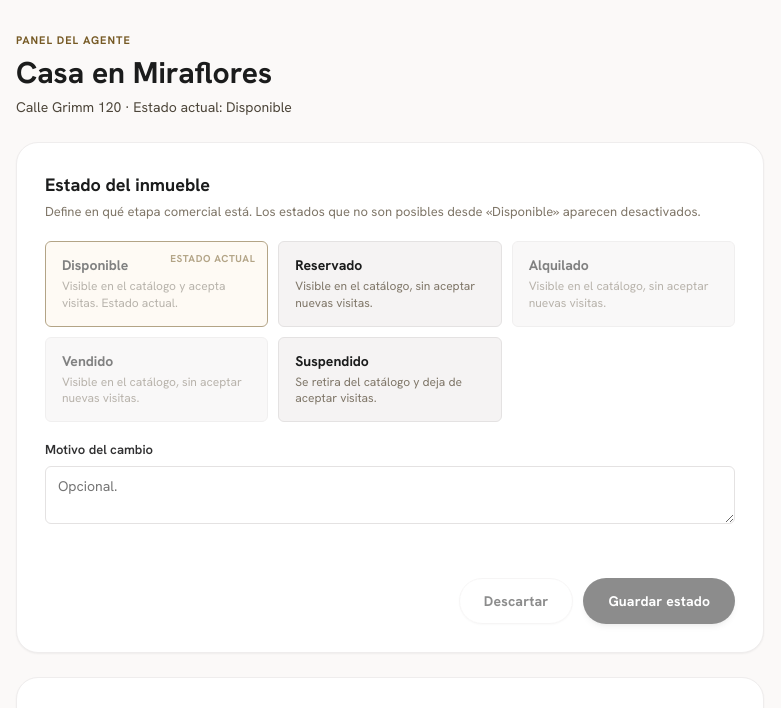
Test case: AvailabilityPanel › Reflejo de los cambios sobre el panel › propaga el estado confirmado por el servidor a la cabecera y a la agenda
The image size is (781, 708).
Expected: the heading "Estado del inmueble" is shown, [45,172,210,196]
Click the radio button labelled "Reservado" at (390, 284), box [278,241,502,327]
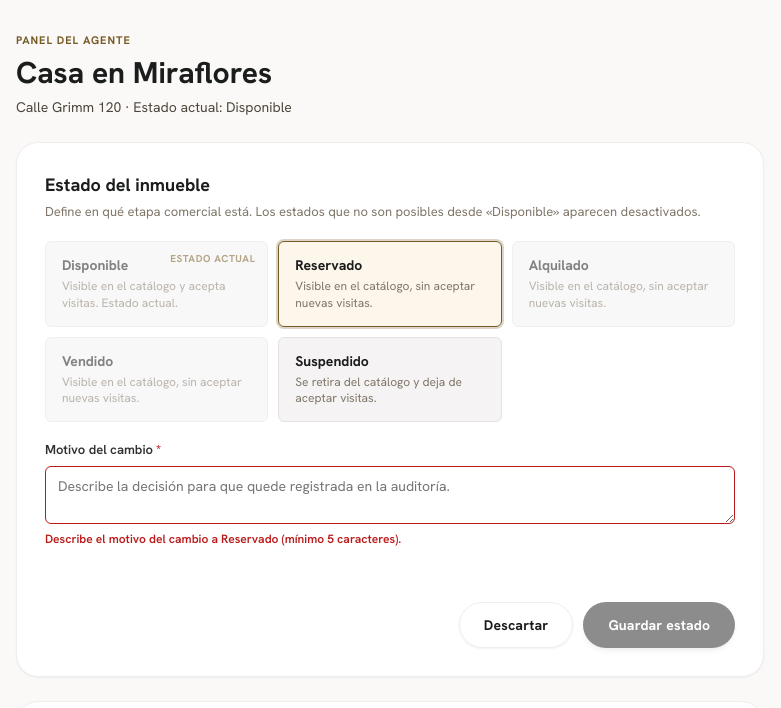
Type "Reserva del cliente" into the text box labelled "Motivo del cambio*" at (390, 495), box [45,466,735,524]
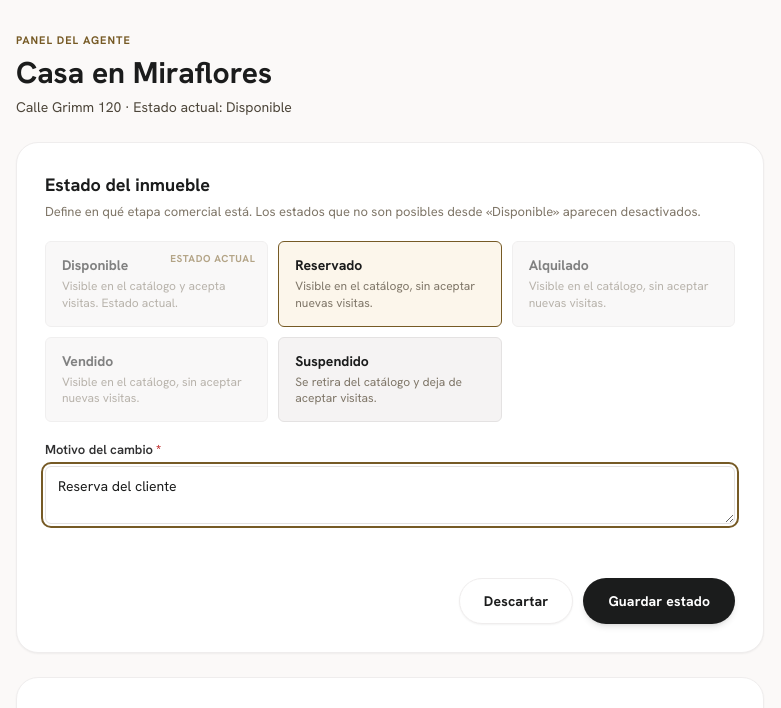
Click the button "Guardar estado" at (659, 601), box [583,578,735,624]
(page scrolled)
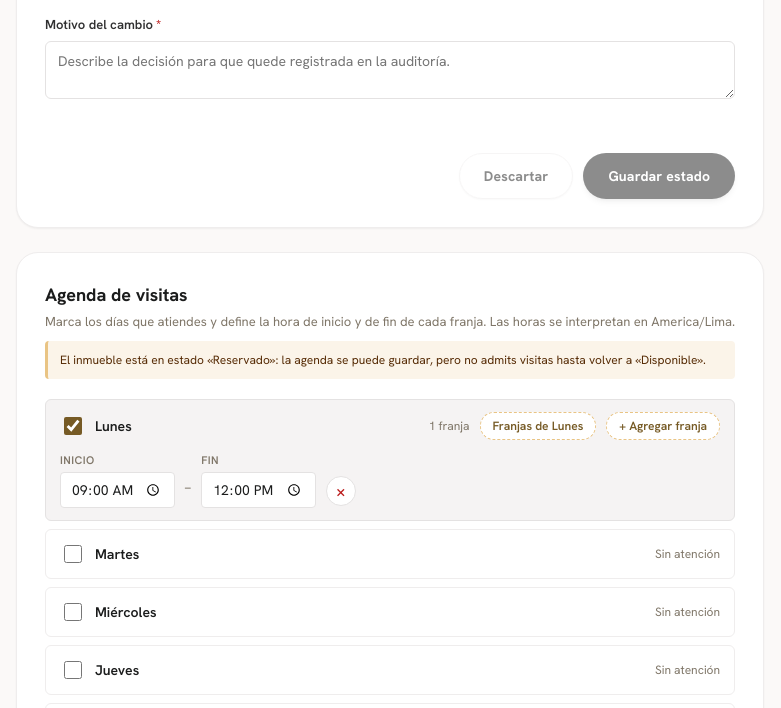
Now the text "estado «Reservado»" is shown, box [45,341,735,379]
